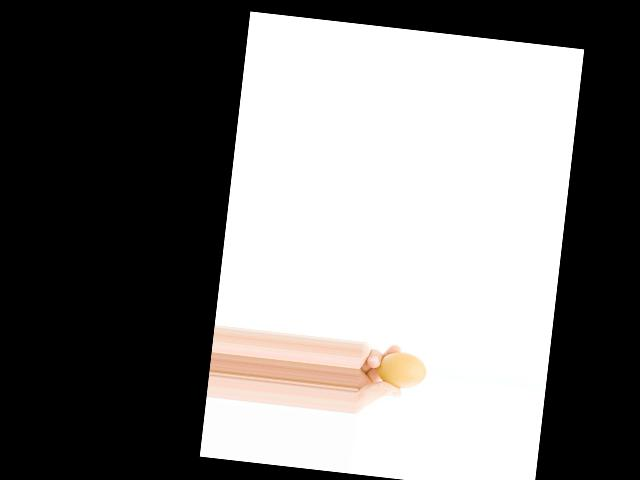egg: (377, 349, 428, 390)
